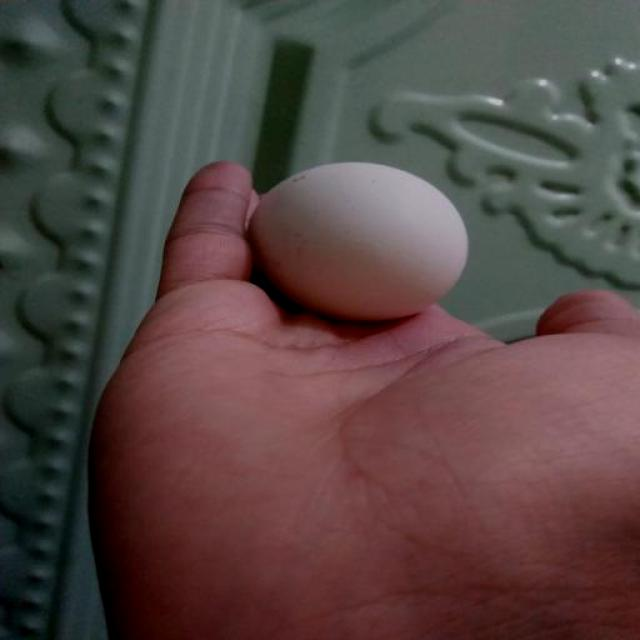telur: (253, 164, 468, 320)
